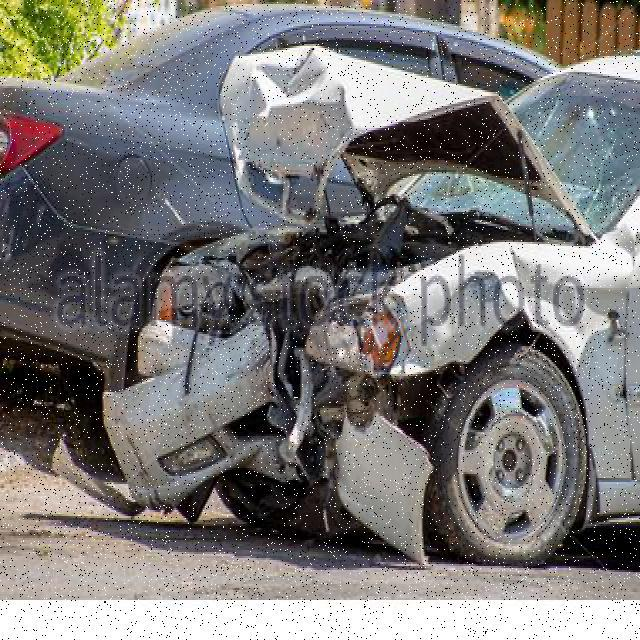bonnet-dent: (216, 46, 563, 240)
fender-dent: (408, 252, 623, 416)
front-bumper-dent: (100, 322, 383, 556)
